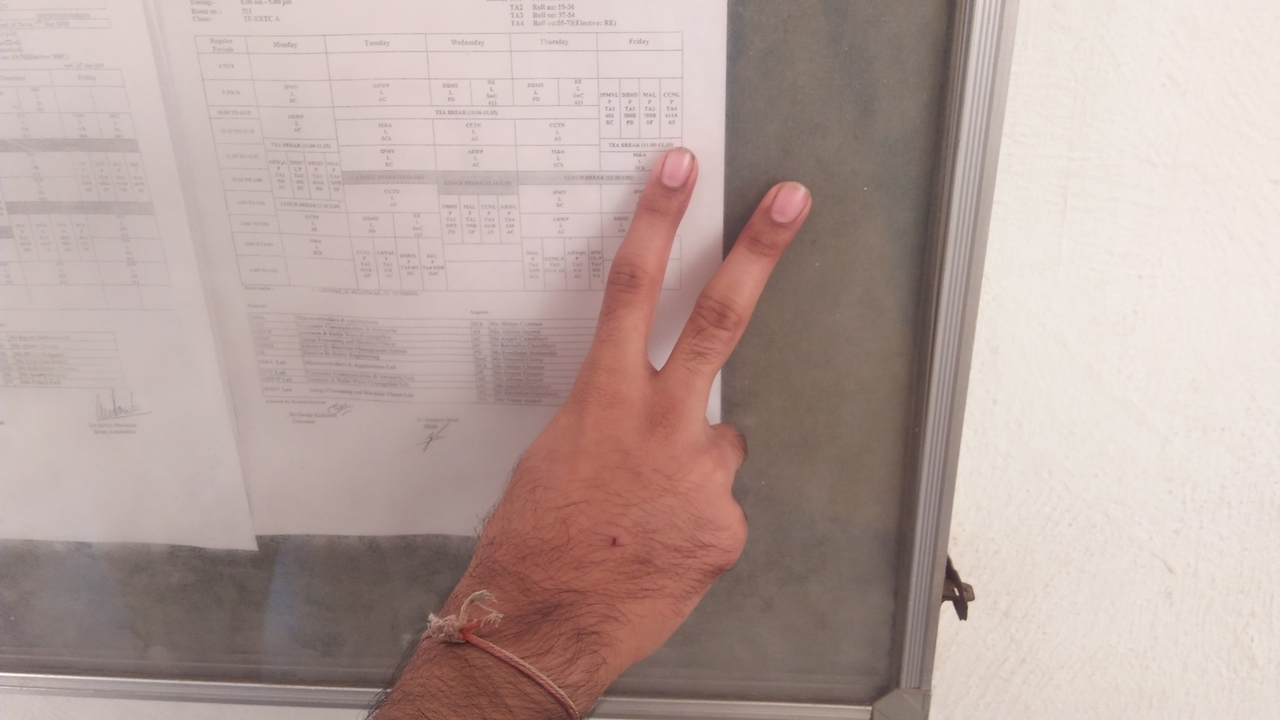fingertip: (754, 172, 820, 232), (644, 142, 706, 196)
